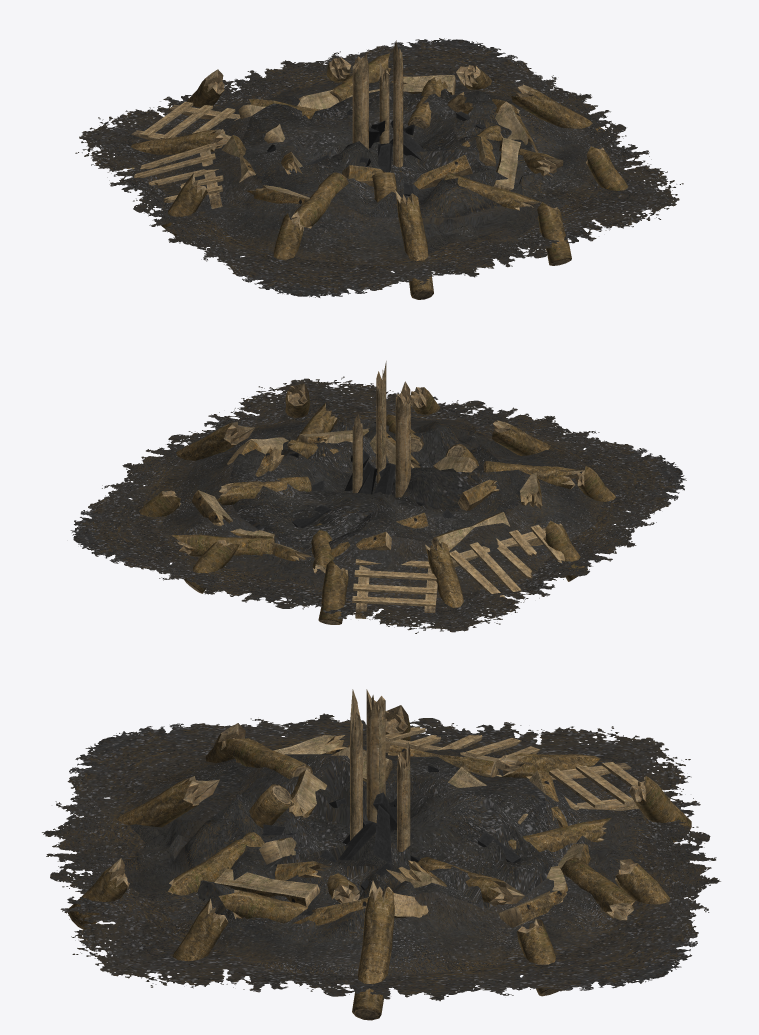
Rendered from CoalerPile_Destroyed_Stage3.fbx.
3 views of the same model, one above another, from view 1: azimuth 30°, elevation 25°; view 2: azimuth 150°, elevation 25°; view 3: azimuth 270°, elevation 25° (orthographic). The views are drawn at different scales.
Visible parts, largest first — view 1: CoalerPile_Destroyed_Stage3; view 2: CoalerPile_Destroyed_Stage3; view 3: CoalerPile_Destroyed_Stage3.
Part boxes in pixels (bbox=[...]): CoalerPile_Destroyed_Stage3: bbox=[75, 38, 683, 299]; CoalerPile_Destroyed_Stage3: bbox=[70, 361, 686, 633]; CoalerPile_Destroyed_Stage3: bbox=[42, 689, 720, 1020].
Bounding box in the file's own units: 708 × 229 × 708.
